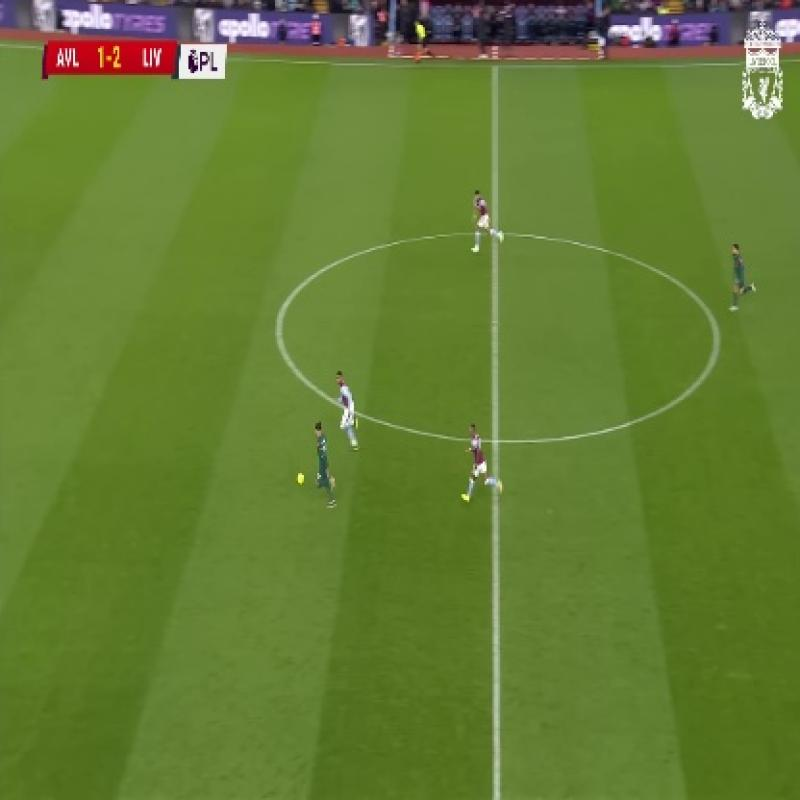13: (482, 49, 510, 84)
14: (468, 216, 524, 252)
15: (479, 415, 511, 462)
c: (256, 305, 306, 345), (700, 320, 740, 360)
